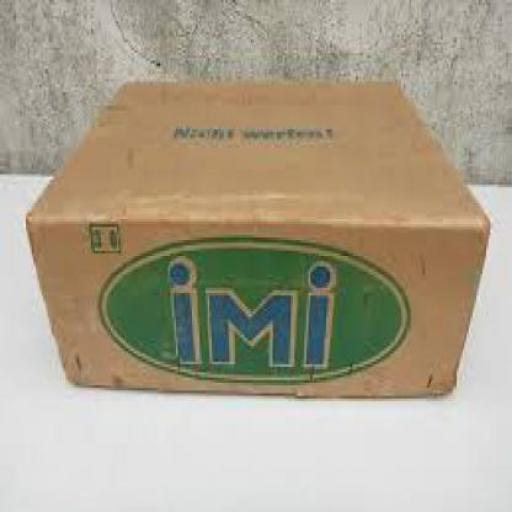cardboard: (22, 79, 488, 396)
